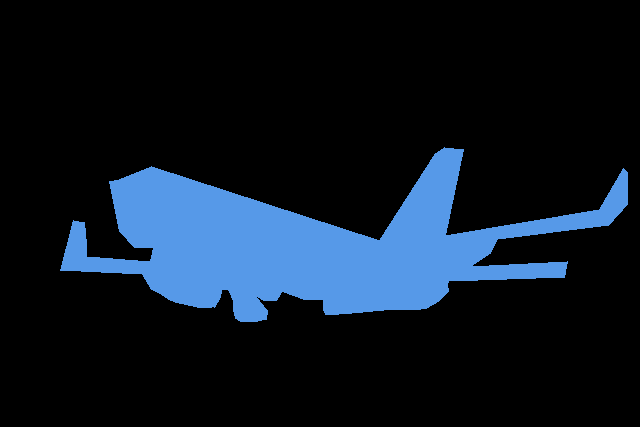Airplane: (60, 147, 628, 321)
